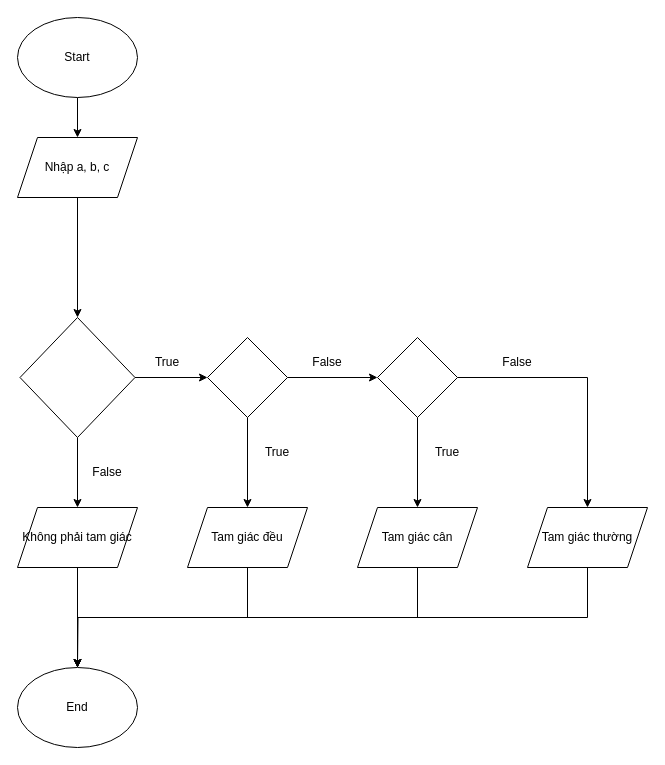
Some shapes in this 665 by 765 pixel diagram are drawn without their labels. Here are the shapes that lost their labels. From the top down, the centre of each, then its label:
At point (77, 377): "a + b > c AND a + c > b AND b + c > a?".
At point (247, 377): "a == b && b == c?".
At point (417, 377): "(a == b) OR (a == c) OR (b == c)?".
